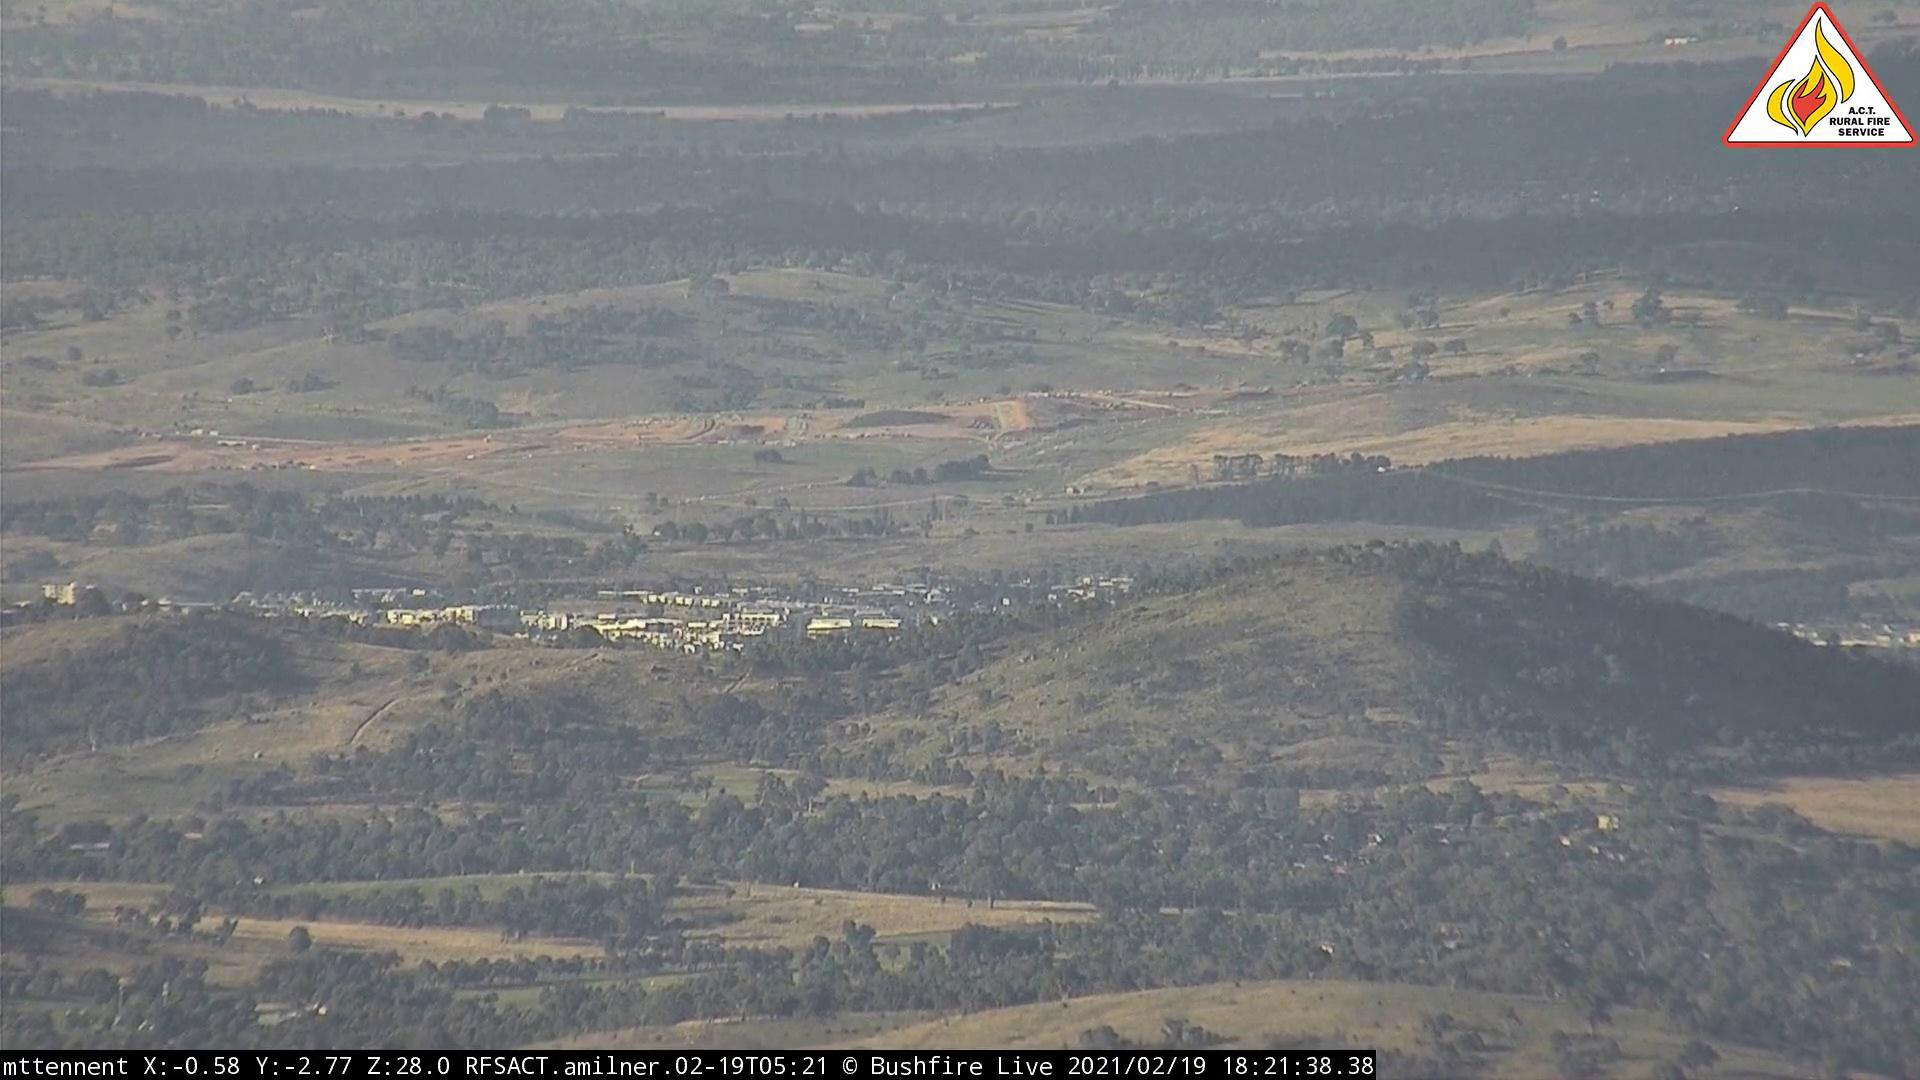Smoke: (625, 516, 673, 550)
